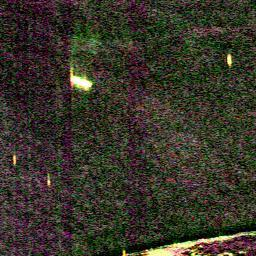Ship: (69, 74, 93, 90), (223, 53, 236, 68), (7, 153, 20, 165), (44, 175, 53, 186)
